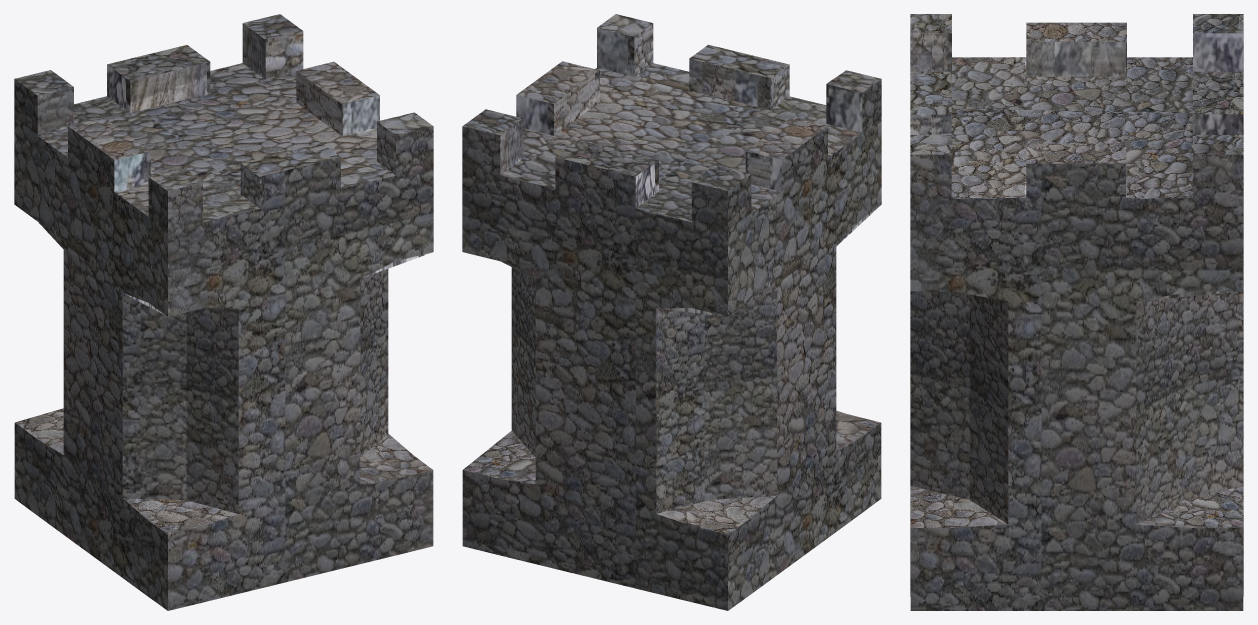
Rendered from towerwall.glb.
3 renders of one model, left to right at view 1: azimuth 30°, elevation 25°; view 2: azimuth 150°, elevation 25°; view 3: azimuth 270°, elevation 25°, orthographic. The views are drawn at different scales.
Visible parts, largest first — view 1: Cube; view 2: Cube; view 3: Cube.
Boxes of the visible parts, x1,y1,x2,y2 form: Cube: (14, 14, 433, 610); Cube: (462, 14, 881, 610); Cube: (910, 14, 1243, 610).
Bounding box in the file's own units: 2 × 3.02 × 2.
Materials: 1 (1 with a texture image).
